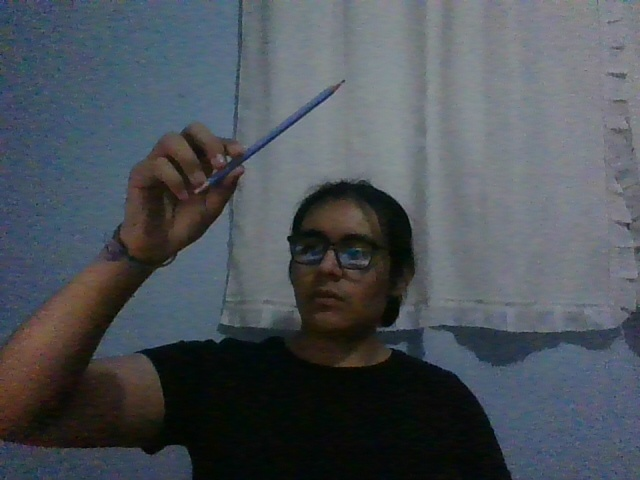lapiz: (193, 78, 347, 195)
